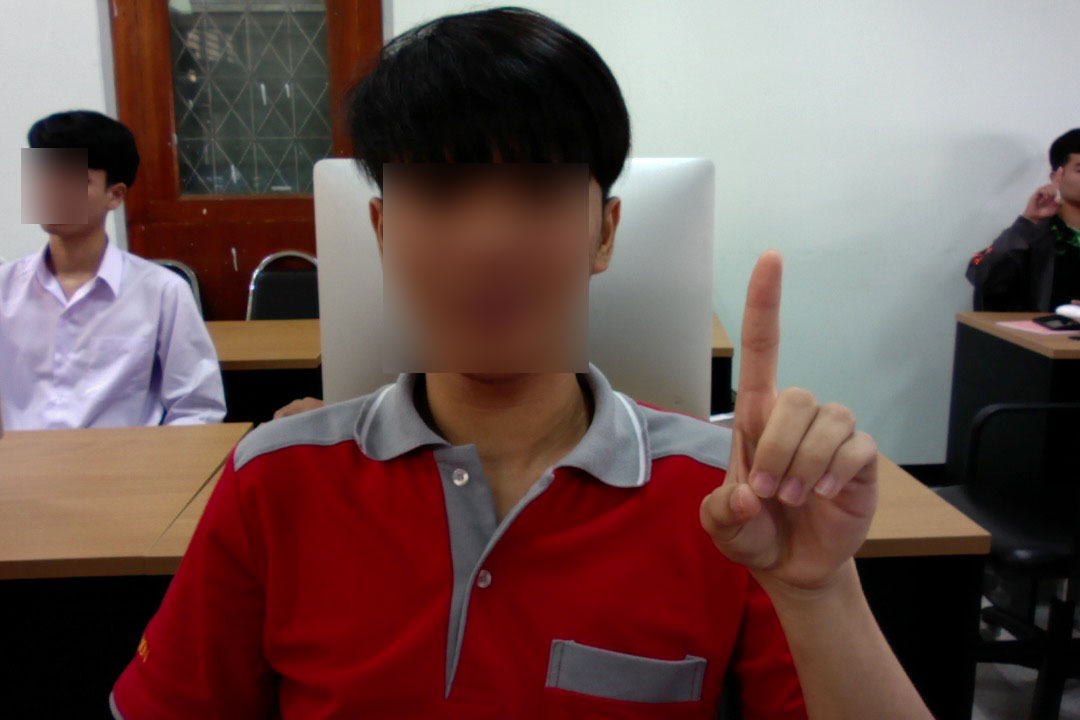dor: (693, 237, 890, 622)
